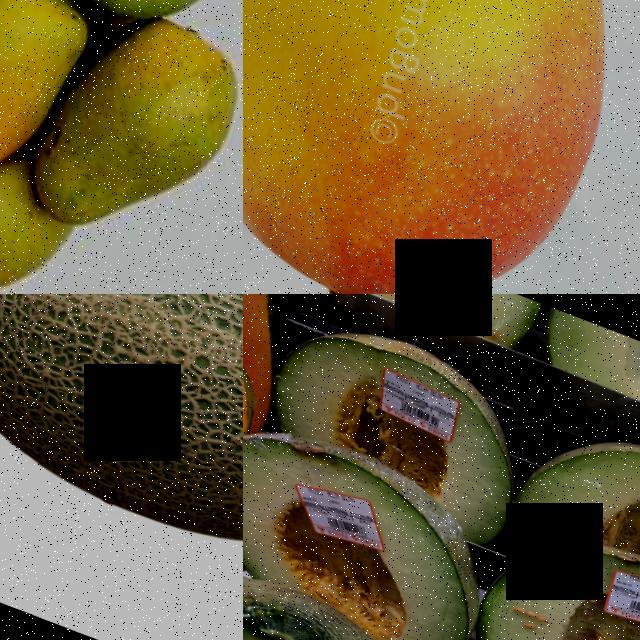mango: (243, 0, 640, 294), (11, 0, 243, 271), (0, 0, 99, 180), (0, 160, 72, 294)
melon: (0, 294, 243, 609), (317, 294, 606, 545), (267, 467, 550, 640), (517, 363, 640, 606), (243, 294, 409, 460), (243, 419, 335, 623), (459, 541, 640, 640)
